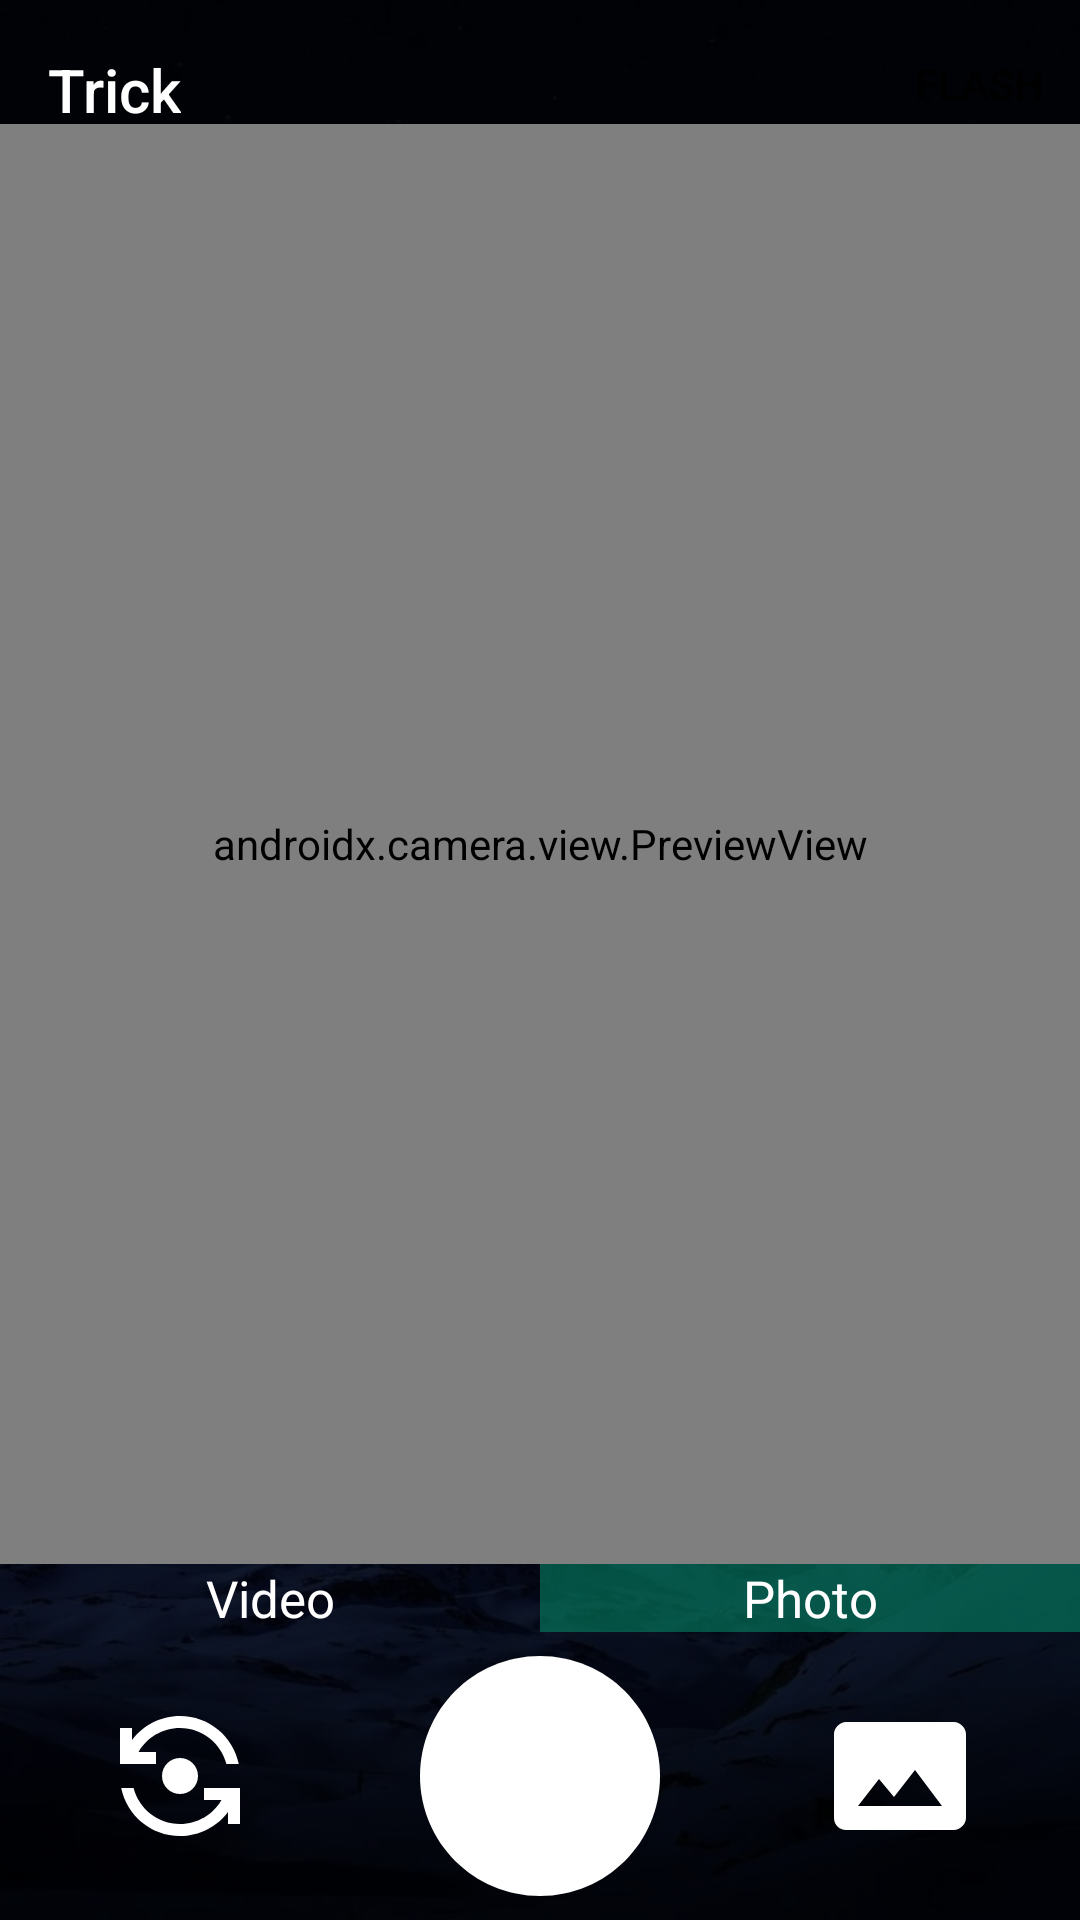

Icon click points for this 1080x1920 phone screenshot, format (x=x, y=y):
flip camera android: (x=180, y=1776)
